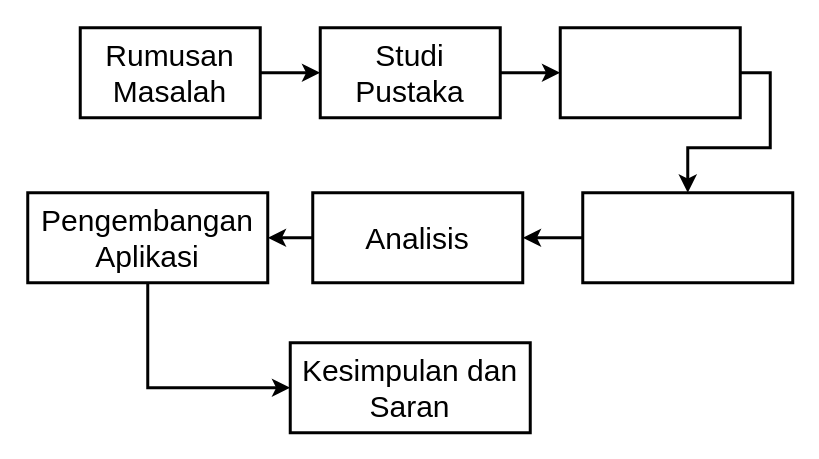
Some shapes in this 819 by 459 pixel diagram are drawn without their labels. The shapes that lost their labels are listed below. From the top down, each one's centre as x and y in pixels, then its label:
At pixel 649 72: "Perumusan Hipotesis".
At pixel 687 237: "Pengumpulan Data".
